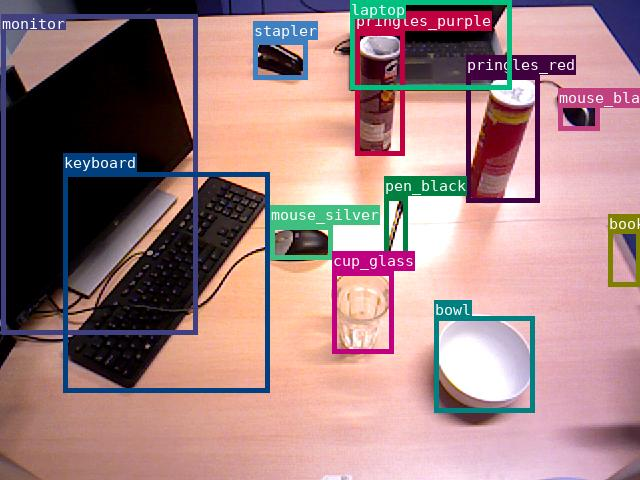book_blue: (608, 214, 640, 286)
bowl: (434, 316, 534, 412)
cup_glass: (332, 271, 393, 353)
keyboard: (63, 172, 269, 392)
laptop: (350, 0, 511, 89)
monitor: (1, 14, 197, 334)
mouse_black: (558, 88, 599, 130)
mouse_silver: (270, 225, 332, 259)
pen_black: (384, 196, 407, 257)
pringles_purple: (355, 31, 404, 155)
pringles_red: (466, 75, 539, 202)
stapler: (253, 40, 307, 79)
